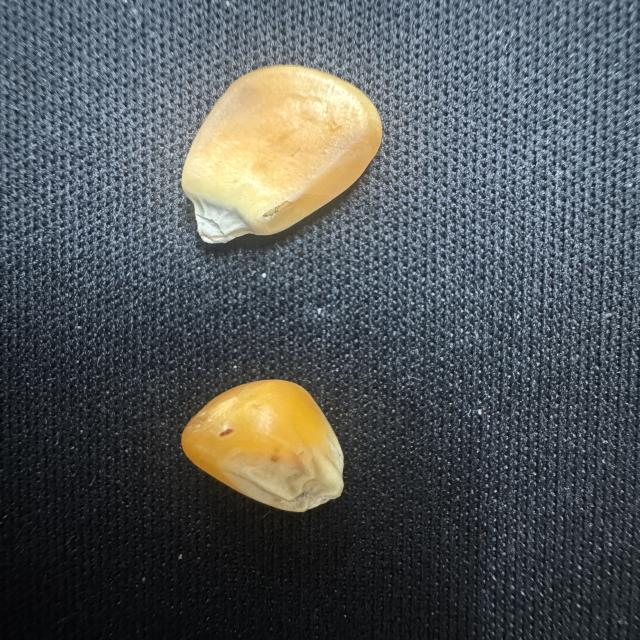Bad-Seed: (173, 374, 356, 520)
Good-Seed: (176, 59, 387, 252)
